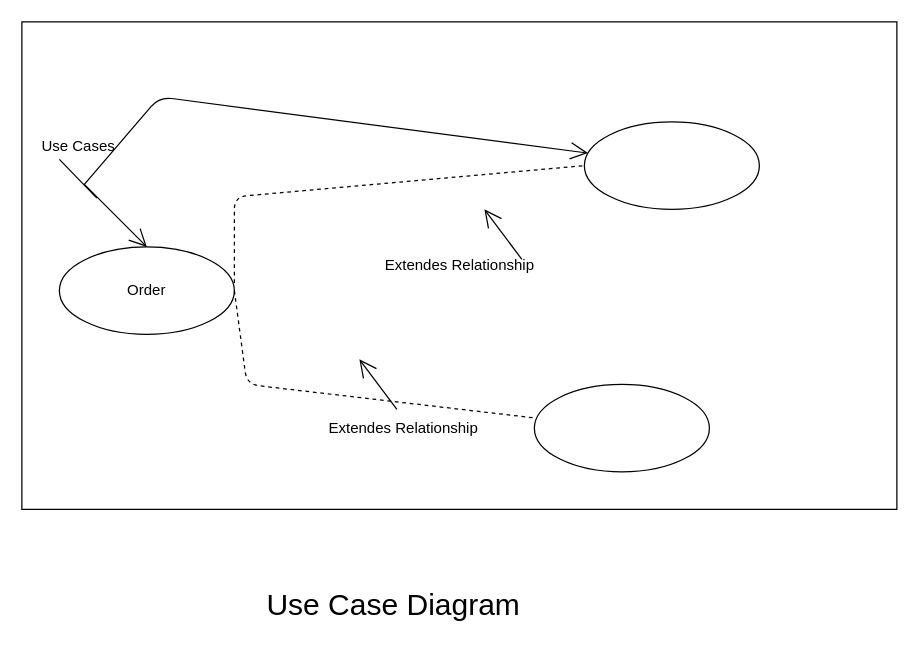
Some shapes in this 919 by 645 pixel diagram are drawn without their labels. The shapes that lost their labels are listed below. From the top down, each one's centre as x and y in pixels, then its label:
At [671,165]: "SpecialOrder".
At [621,427]: "NormalOrder".
